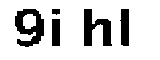9: (12, 6, 46, 50)
I: (116, 1, 137, 52)
h: (80, 4, 114, 52)
i: (48, 3, 70, 51)
